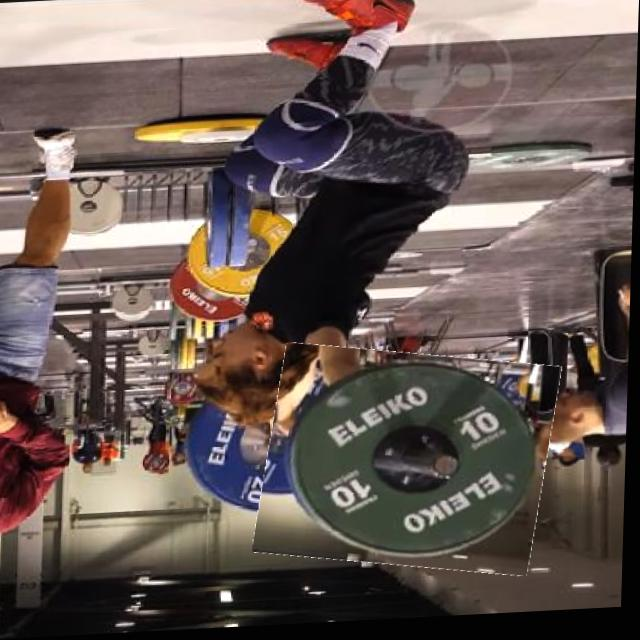barbell: (263, 345, 560, 585)
